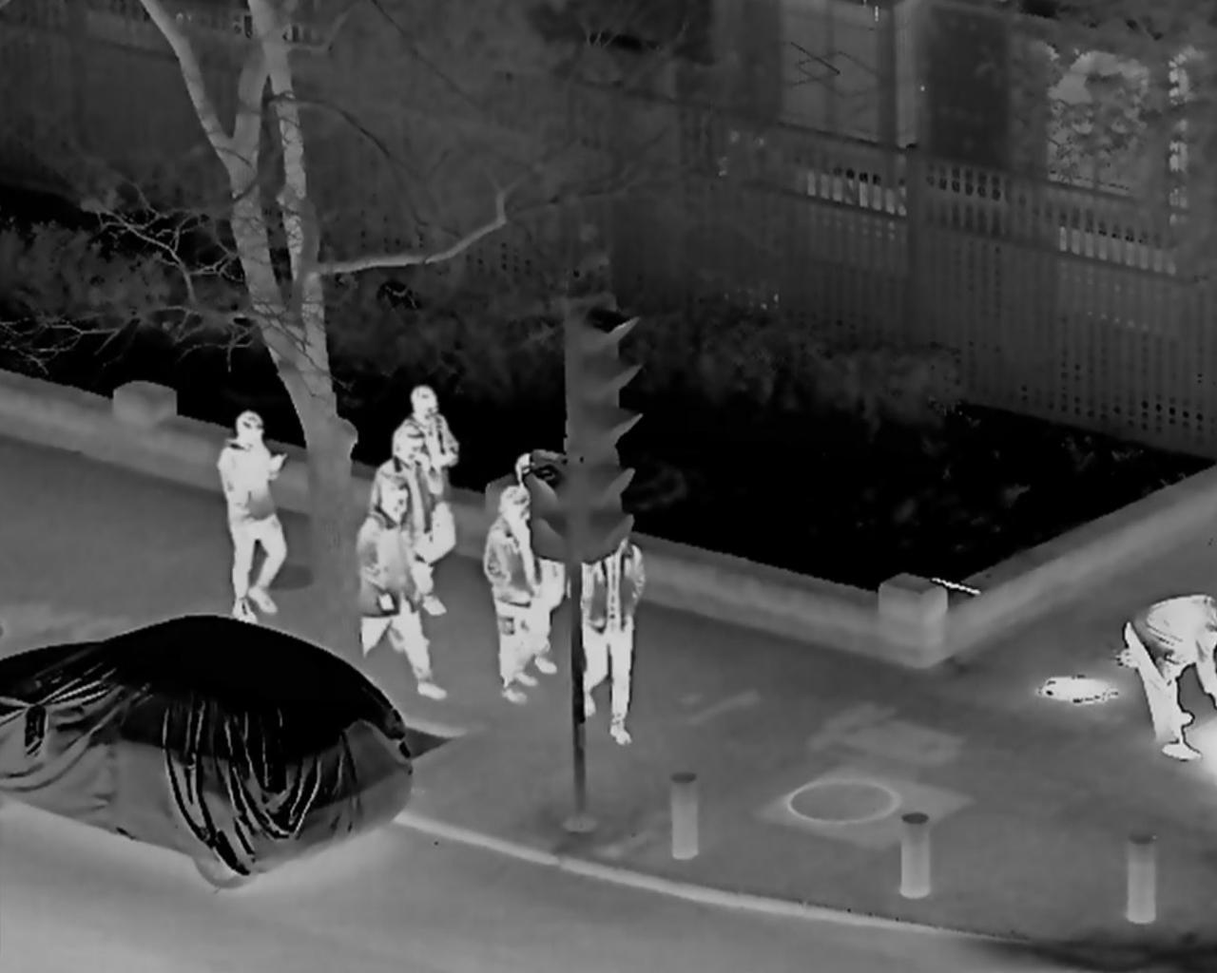person: (347, 484, 452, 698), (560, 524, 647, 738), (385, 383, 457, 612), (1120, 590, 1217, 756), (369, 434, 442, 653), (218, 418, 289, 618), (481, 488, 543, 704)
